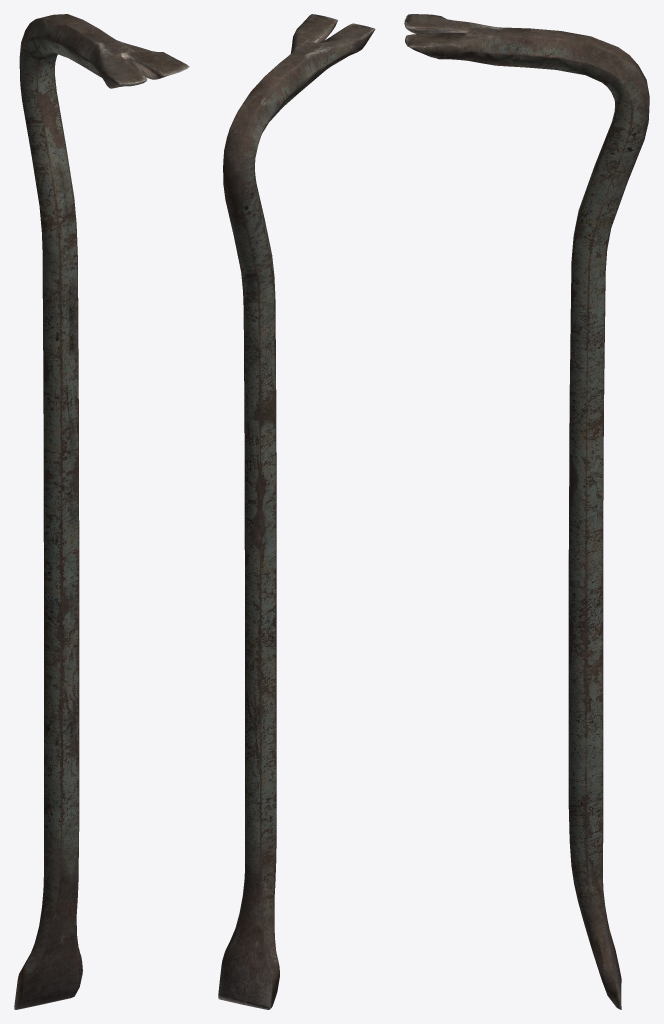
The model's file is crowbar_01.glb.
The picture shows the model from 3 angles, left to right: view 1: azimuth 30°, elevation 25°; view 2: azimuth 150°, elevation 25°; view 3: azimuth 270°, elevation 25°; orthographic projection. The views are drawn at different scales.
Parts seen in each view (by area): view 1: crowbar_01; view 2: crowbar_01; view 3: crowbar_01.
Part boxes in pixels (bbox=[...]): crowbar_01: bbox=[14, 14, 189, 1009]; crowbar_01: bbox=[218, 14, 375, 1009]; crowbar_01: bbox=[404, 14, 649, 1009].
Size of the model in its own units: 0.0404 by 0.5553 by 0.1276.
1 material, 1 textured.
